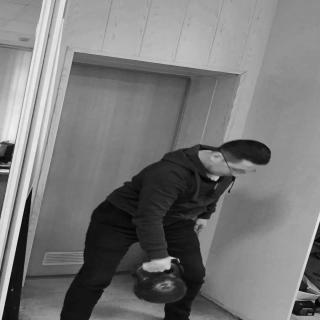kettlebell: (132, 261, 192, 306)
